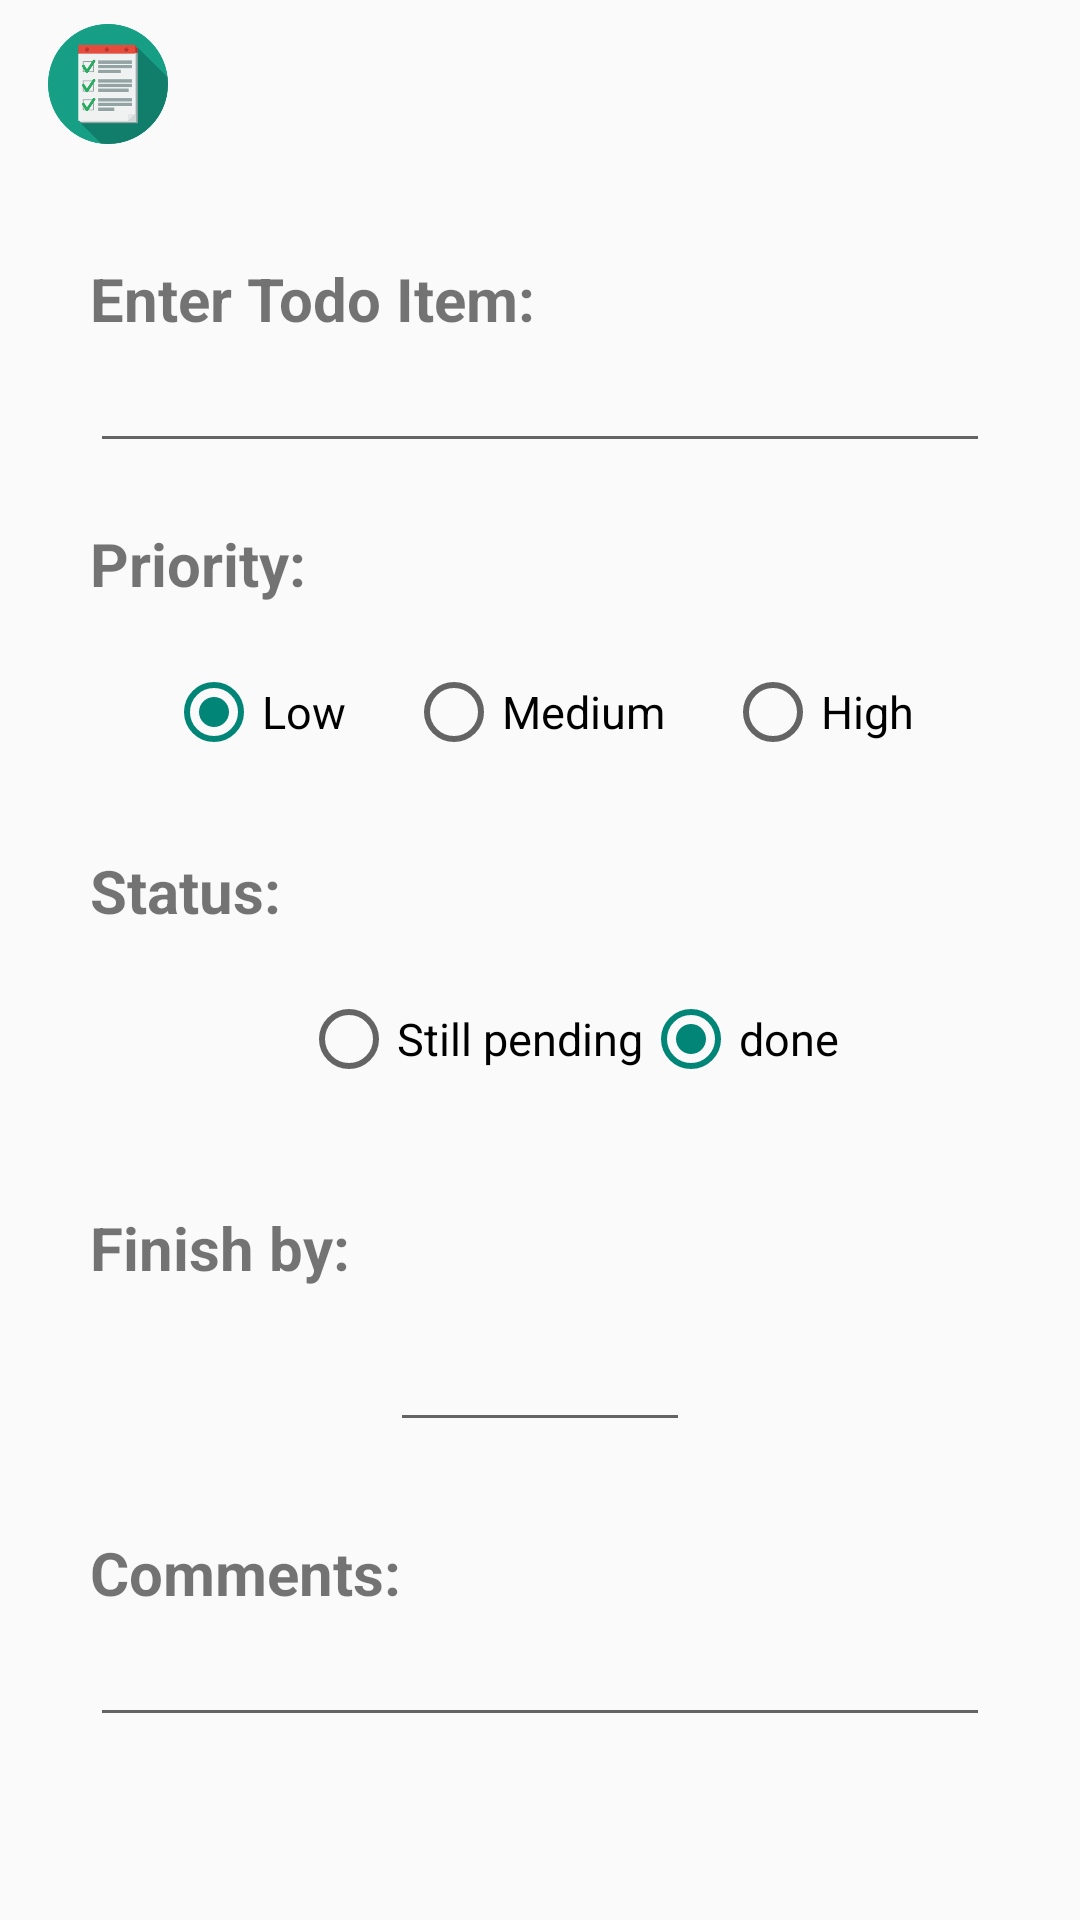

Named icons in this screenshot (1080px x 1920px) and their centers, [x,y]:
checklist: [108,84]
